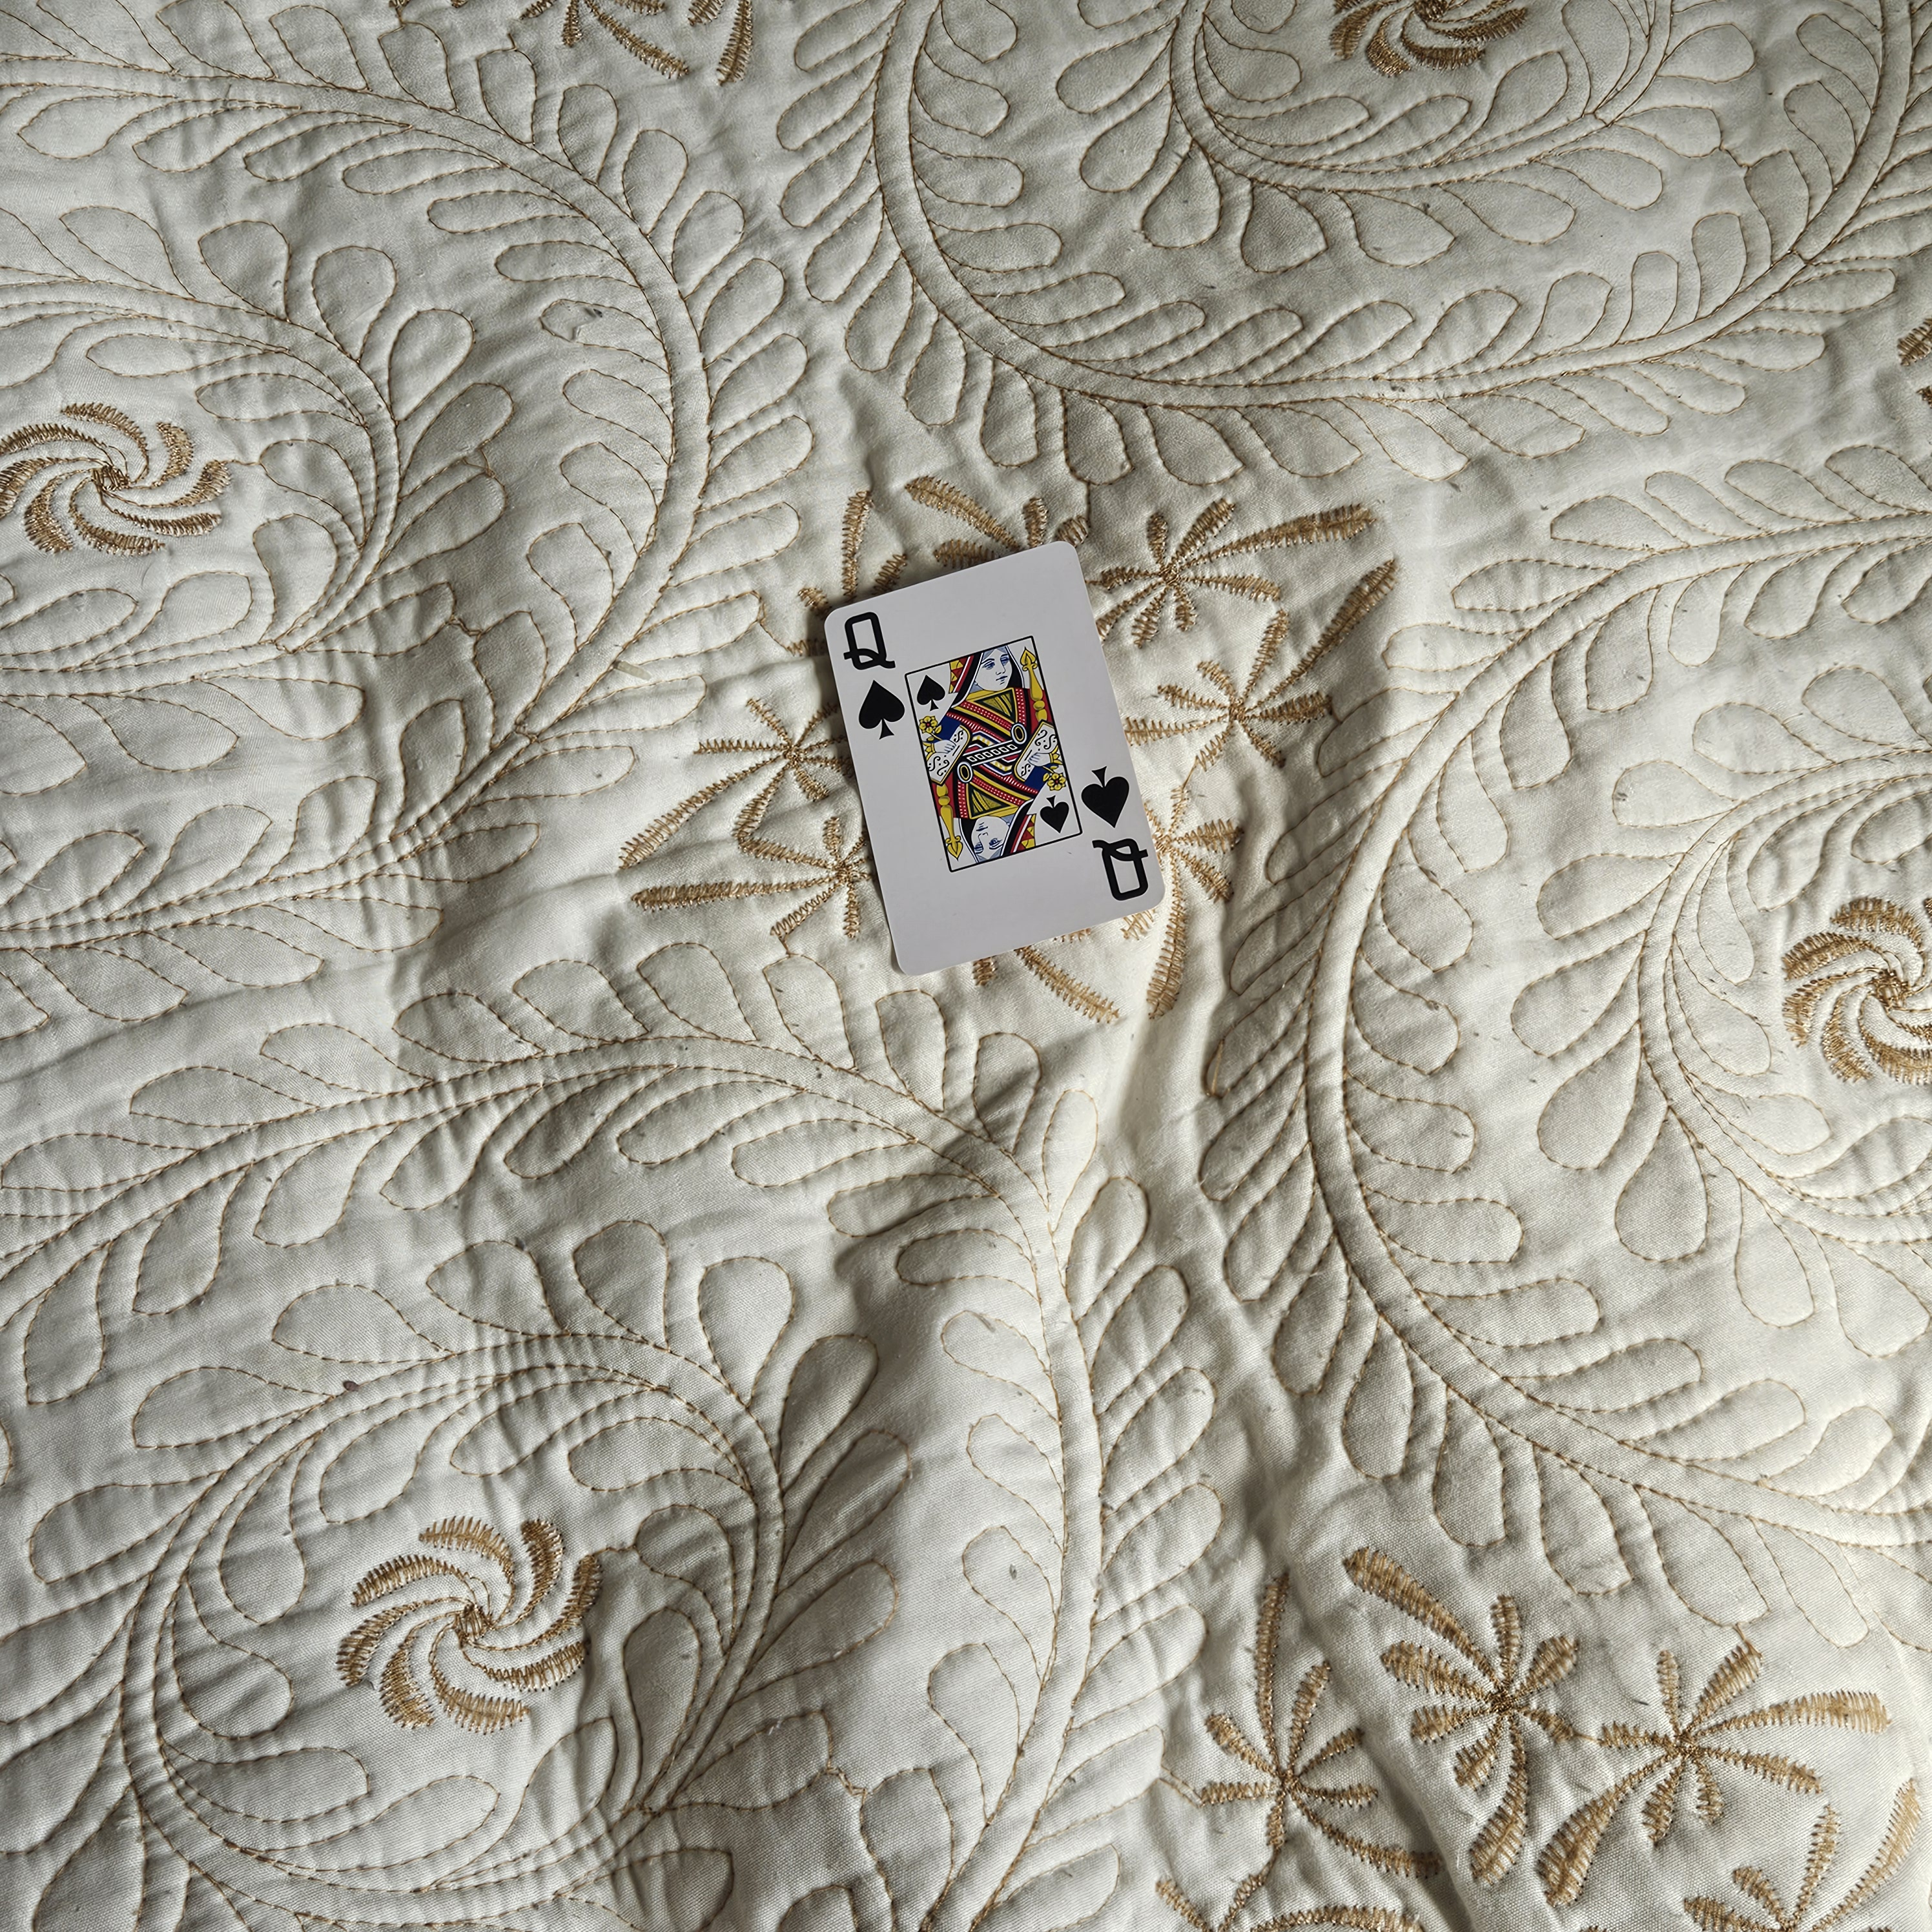QE: (1072, 757, 1161, 911), (832, 596, 918, 748)
